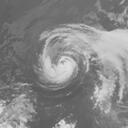cyclone: (34, 24, 115, 89)
